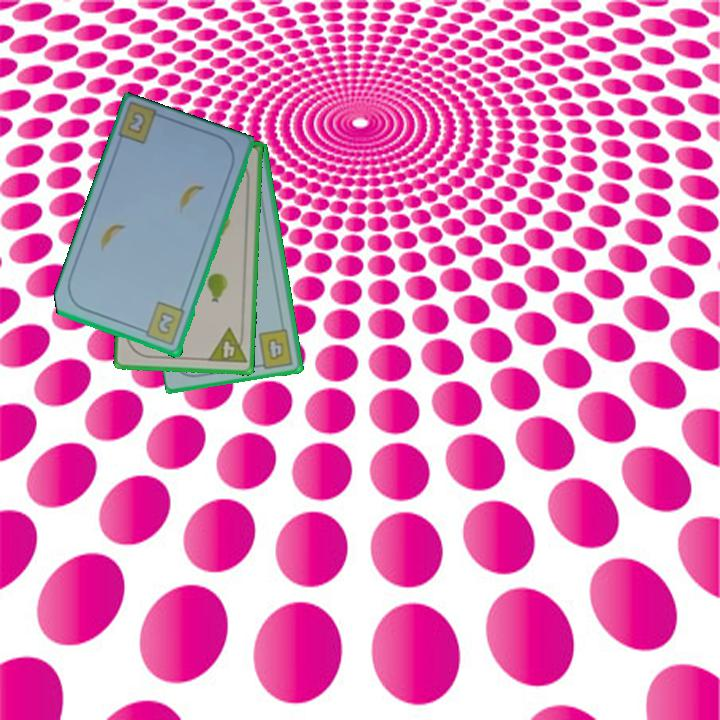2b: (137, 299, 188, 348), (124, 108, 149, 137)
4b: (253, 325, 296, 371)
4p: (205, 325, 249, 367)
